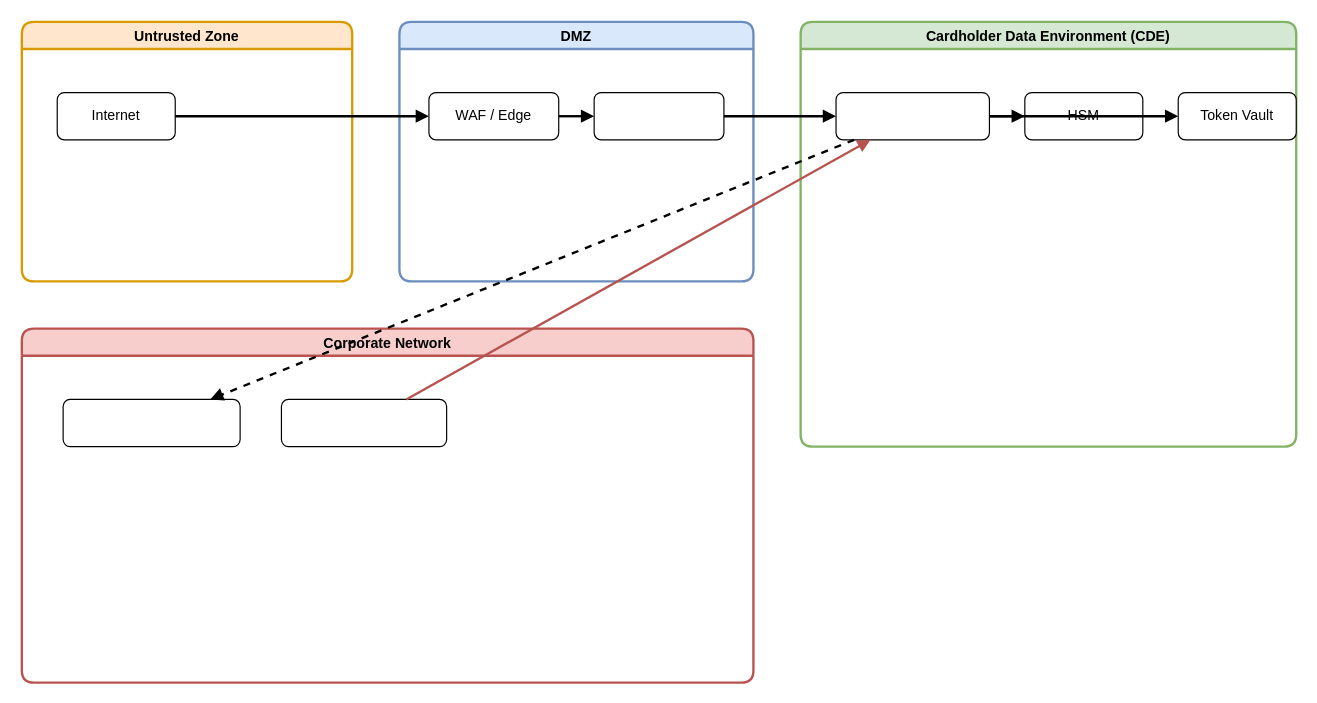
Image size: 1317x703. Some labels were removed from this diagram. The shapes that lost their labels are listed below. From the top down, each one's centre as x and y in pixels, then its label:
(658,115): Payment API
(912,115): Payment Switch
(151,422): SIEM / Monitoring
(363,422): Admin Jump Host
